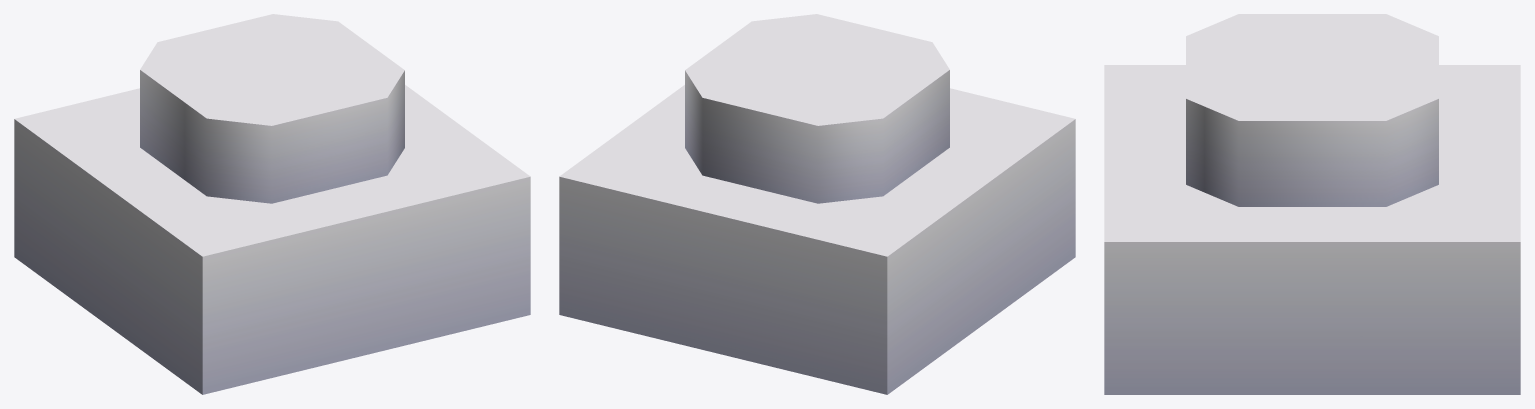
File: kenney-brick-bevel-lq-plate-1-x-1.glb
The picture shows the model from 3 angles, left to right: view 1: azimuth 30°, elevation 25°; view 2: azimuth 150°, elevation 25°; view 3: azimuth 270°, elevation 25°; orthographic projection. The views are drawn at different scales.
Parts seen in each view (by area): view 1: bevel-lq-plate-1x1; view 2: bevel-lq-plate-1x1; view 3: bevel-lq-plate-1x1.
Part boxes in pixels (x1,y1,x2,y2): bevel-lq-plate-1x1: (14,14,530,394); bevel-lq-plate-1x1: (559,14,1075,394); bevel-lq-plate-1x1: (1104,14,1520,394).
Size of the model in its own units: 0.0795 by 0.05 by 0.079.
Materials: 1 (1 with a texture image).
